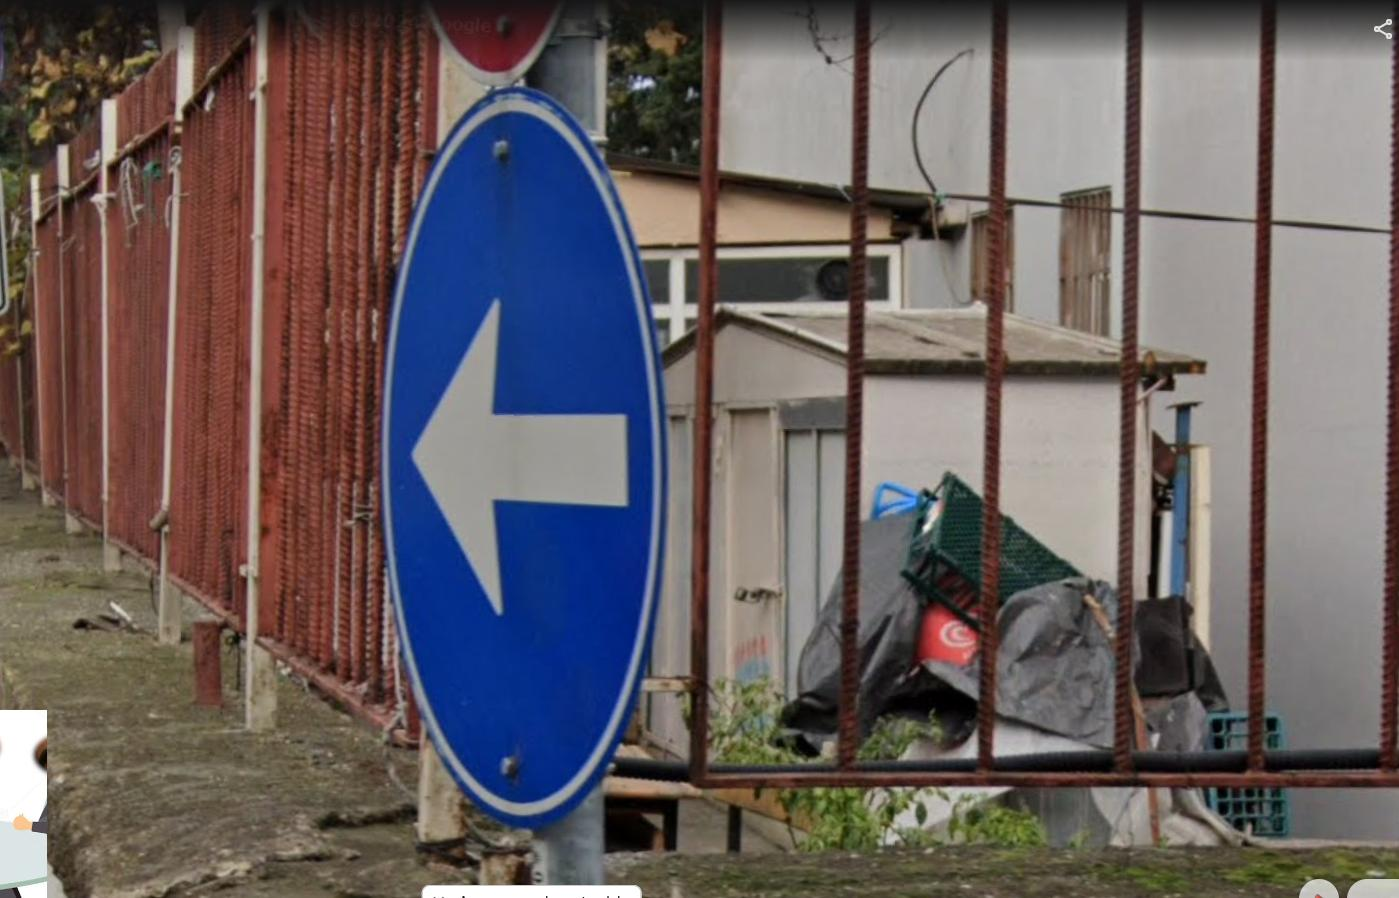turnleft: (395, 104, 665, 797)
